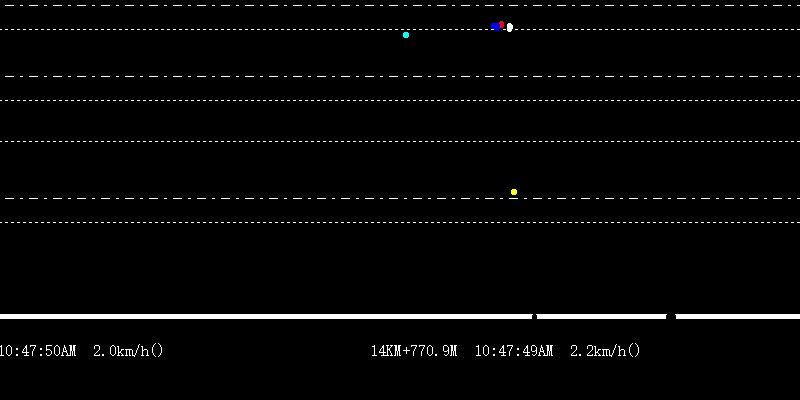face_1: (505, 20, 513, 38)
face_down: (401, 26, 411, 39)
face_s: (491, 17, 504, 35)
